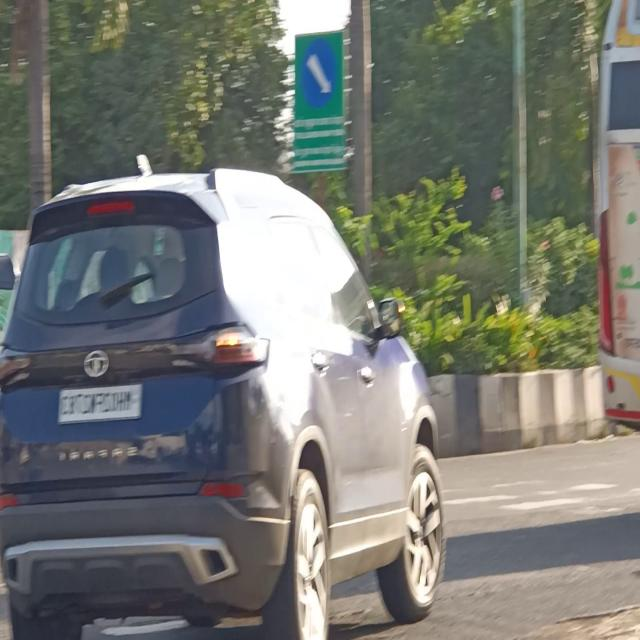license_plate: (52, 369, 150, 428)
